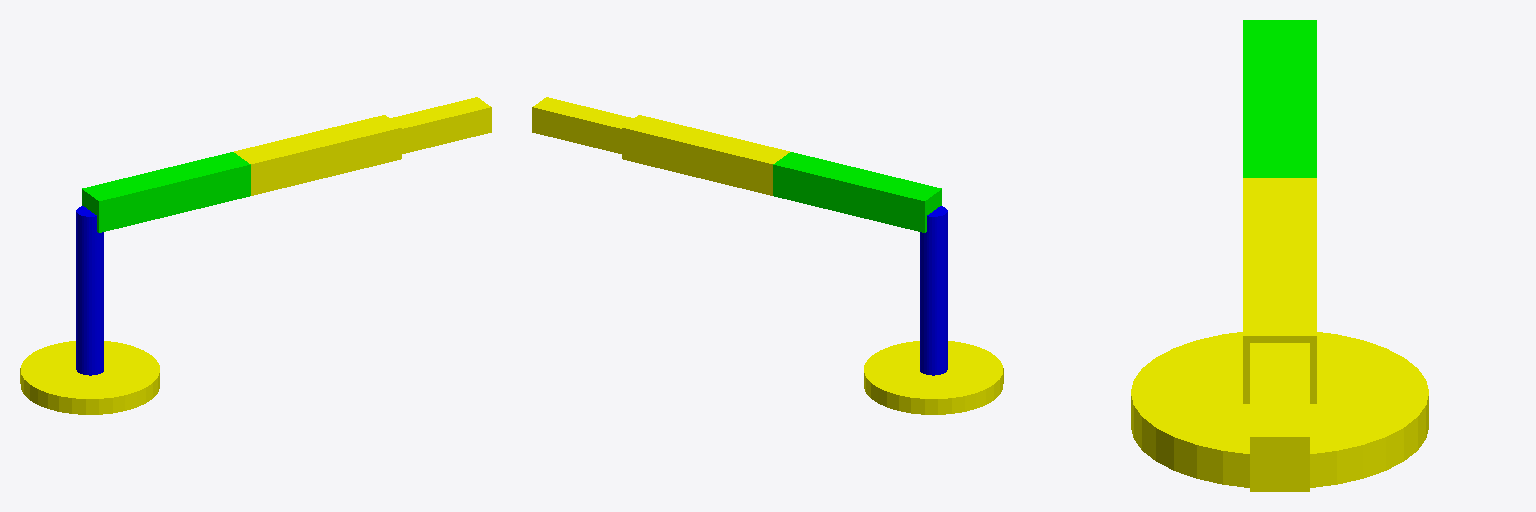
robot.urdf — simple_robot:
<?xml version="1.0"?>
<robot name="simple_robot">
	<link name="base_link">
		<visual>
			<geometry>
				<cylinder length="0.05" radius="0.2"/>
			</geometry>
			<!--origin of the reference frame of the visual element with respect to the reference frame of the link -->
			<!-- rpy - r is roll, p is pitch, y is yaw -->
			<!-- xzy - x, y, z are offsets -->
			<origin rpy = "0 0 0" xyz = "0 0 0" />
			<material name = "yellow">
				<color rgba = "1 1 0 1" />
			</material>
		</visual>
	</link>
	
	<joint name="joint_1" type="revolute">
		<parent link="base_link"/>
		<child link="first_link"/>
		<origin xyz="0 0 0.025"/>
		<axis xyz="0 0 1"/>
		<limit effort="300" velocity="2.0" lower="-2.2" upper="2.2" />
	</joint>
	<link name="first_link">
		<visual>
			<geometry>
				<cylinder length="0.5" radius="0.04"/>
			</geometry>
			<origin rpy="0 0 0" xyz="0 0 0.25"/>
			<material name="blue">
				<color rgba="0 0 1 1"/>
			</material>
		</visual>
	</link>
	
	<joint name="joint_2" type="revolute">
		<parent link="first_link"/>
		<child link="second_link"/>
		<origin xyz="0 0 0.5" rpy="1.57079633 0 0"/>
		<axis xyz="0 0 1"/>
		<limit effort="300" velocity="2.0" lower="-2.2" upper="2.2" />
	</joint>
	
	<link name="second_link">
		<visual>
			<geometry>
				<box size="0.5 0.1 0.1"/>
			</geometry>
			<origin rpy="0 0 0" xyz="0.25 0 0"/>
			<material name="green">
				<color rgba="0 1 0 1"/>
			</material>
		</visual>
	</link>
	
	<joint name="joint_3" type="revolute">
		<parent link="second_link"/>
		<child link="third_link"/>
		<origin xyz="0.5 0 0"/>
		<axis xyz="0 0 1"/>
		<limit effort="300" velocity="2.0" lower="-2.2" upper="2.2" />
	</joint>
	<link name="third_link">
		<visual>
			<geometry>
				<box size="0.5 0.1 0.1"/>
			</geometry>
			<origin rpy="0 0 0" xyz="0.25 0 0"/>
			<material name="yellow">
				<color rgba="1 1 0 1"/>
			</material>
		</visual>
	</link>
	
		<joint name="joint_4" type="revolute">
		<parent link="third_link"/>
		<child link="fourth_link"/>
		<origin xyz="0.5 0 0"/>
		<axis xyz="0 1 0"/>
		<limit effort="300" velocity="2.0" lower="-1.2" upper="1" />
	</joint>
	<link name="fourth_link">
		<visual>
			<geometry>
				<box size="0.15 0.08 0.08"/>
			</geometry>
			<origin rpy="0 0 0" xyz="0.075 0 0"/>
			<material name="yellow">
				<color rgba="1 1 0 1"/>
			</material>
		</visual>
	</link>
	
	<joint name="joint_5" type="revolute">
		<parent link="fourth_link"/>
		<child link="fifth_link"/>
		<origin xyz="0.15 0 0"/>
		<axis xyz="1 0 0"/>
		<limit effort="300" velocity="2.0" lower="-1.2" upper="1" />
	</joint>
	<link name="fifth_link">
		<visual>
			<geometry>
				<box size="0.15 0.08 0.08"/>
			</geometry>
			<origin rpy="0 0 0" xyz="0.075 0 0"/>
			<material name="yellow">
				<color rgba="1 1 0 1"/>
			</material>
		</visual>
	</link>
</robot>

--- What the picture shows (computed from the rendered views, not written in the file) ---
3 views of the same robot in one strip: view 1: azimuth 30°, elevation 25°; view 2: azimuth 150°, elevation 25°; view 3: azimuth 270°, elevation 25° (orthographic).
Robot: simple_robot — 6 links, 5 joints (5 revolute); root link base_link; default pose: every joint at zero.
Links seen in each view (by area): view 1: base_link, second_link, third_link, first_link, fifth_link, fourth_link; view 2: base_link, second_link, third_link, first_link, fifth_link, fourth_link; view 3: base_link, third_link, second_link, fifth_link, fourth_link.
Boxes of the visible links, x1,y1,x2,y2 form: base_link: (20, 341, 159, 414); second_link: (82, 152, 250, 232); third_link: (234, 115, 401, 195); first_link: (76, 206, 103, 375); fifth_link: (433, 97, 491, 143); fourth_link: (390, 108, 445, 153); base_link: (864, 341, 1003, 414); second_link: (773, 152, 941, 232); third_link: (622, 115, 789, 195); first_link: (920, 206, 947, 375); fifth_link: (532, 97, 590, 143); fourth_link: (578, 108, 633, 153); base_link: (1131, 332, 1428, 487); third_link: (1243, 178, 1316, 403); second_link: (1243, 20, 1316, 177); fifth_link: (1250, 390, 1309, 491); fourth_link: (1250, 343, 1309, 389).
Bounding box of the posed robot: 1.5 × 0.4 × 0.6 m (x, y, z).
Geometry: primitives only (box / cylinder / sphere), no mesh files.
